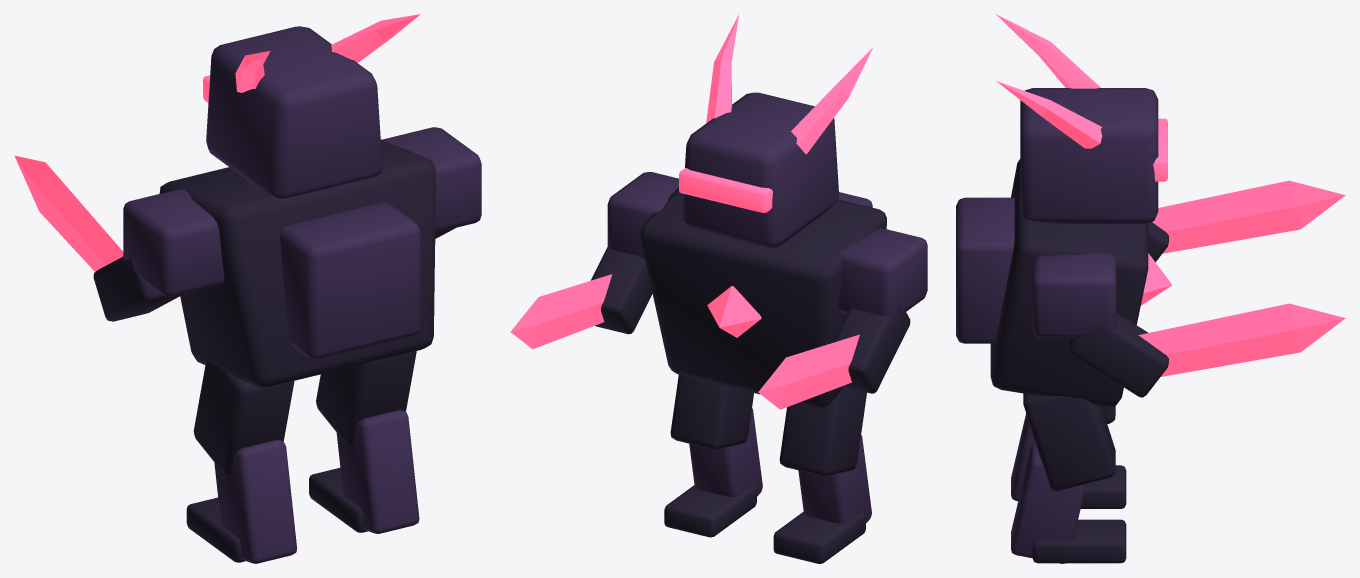
File: enemy_crimson_striker.glb
3 renders of one model, left to right at view 1: azimuth 30°, elevation 25°; view 2: azimuth 150°, elevation 25°; view 3: azimuth 270°, elevation 25°, orthographic. The views are drawn at different scales.
Visible parts, largest first — view 1: Torso, Helm, ThrusterPack, LeftShoulder, Shin_-1, Shin_1, Thigh_-1, Thigh_1, RightShoulder, LeftScythe, LeftForearm, ClawFoot_-1 (+3 smaller); view 2: Torso, Helm, LeftShoulder, Thigh_-1, Thigh_1, LeftScythe, RightScythe, LeftForearm, RightShoulder, RightForearm, Shin_1, Shin_-1 (+6 smaller); view 3: Helm, Torso, RightScythe, LeftScythe, ThrusterPack, RightShoulder, Thigh_1, Shin_1, RightForearm, ClawFoot_1, StrikerHorn_1, StrikerHorn_-1 (+5 smaller).
Boxes of the visible parts, box(x1,y1,x2,y2) form: Torso: box(159, 139, 436, 387); Helm: box(206, 26, 382, 198); ThrusterPack: box(280, 202, 420, 358); LeftShoulder: box(123, 189, 224, 296); Shin_-1: box(214, 440, 296, 563); Shin_1: box(336, 410, 419, 533); Thigh_-1: box(193, 362, 294, 476); Thigh_1: box(316, 351, 416, 446); RightShoulder: box(382, 127, 481, 232); LeftScythe: box(14, 155, 123, 271); LeftForearm: box(93, 256, 182, 321); ClawFoot_-1: box(186, 497, 245, 562); Torso: box(640, 187, 886, 407); Helm: box(681, 92, 838, 247); LeftShoulder: box(838, 228, 927, 315); Thigh_-1: box(779, 387, 866, 476); Thigh_1: box(670, 374, 753, 449); LeftScythe: box(758, 334, 859, 409); RightScythe: box(510, 274, 612, 349); LeftForearm: box(833, 304, 910, 393); RightShoulder: box(607, 172, 678, 260); RightForearm: box(591, 247, 652, 334); Shin_1: box(689, 408, 762, 497); Shin_-1: box(798, 435, 871, 523); Helm: box(1020, 88, 1158, 223); Torso: box(990, 159, 1148, 406); RightScythe: box(1138, 303, 1345, 376); LeftScythe: box(1152, 180, 1345, 253); ThrusterPack: box(956, 197, 1014, 343); RightShoulder: box(1032, 253, 1116, 338); Thigh_1: box(1023, 393, 1115, 491); Shin_1: box(1011, 443, 1086, 563); RightForearm: box(1069, 312, 1168, 397); ClawFoot_1: box(1032, 519, 1126, 563); StrikerHorn_1: box(996, 81, 1102, 148); StrikerHorn_-1: box(996, 14, 1100, 88).
Bounding box in the file's own units: 1.36 × 2.15 × 1.58.
